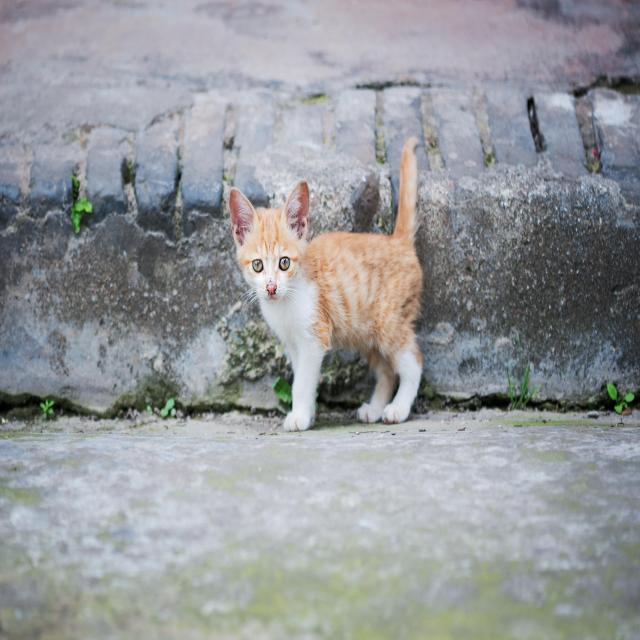cat: (225, 152, 440, 432)
